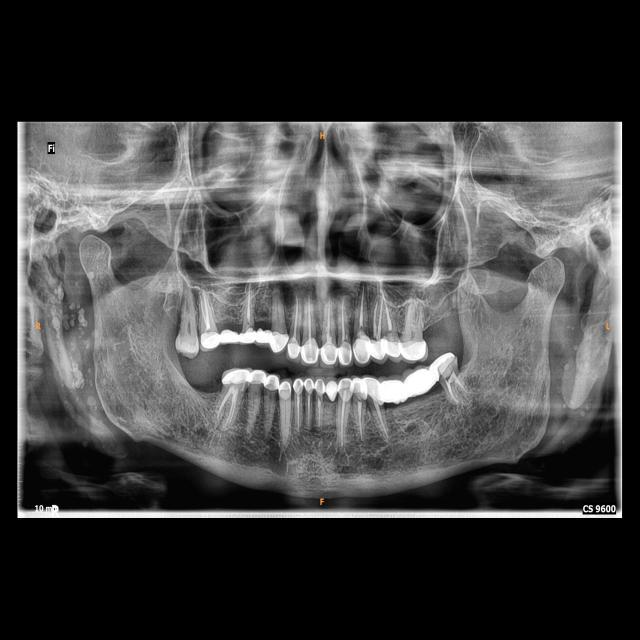kanal-tedavisi: (216, 387, 238, 423), (198, 288, 215, 332), (444, 370, 466, 403), (338, 294, 350, 346), (373, 402, 389, 441), (352, 399, 367, 438), (304, 295, 316, 340), (243, 282, 255, 326), (322, 298, 334, 342), (372, 291, 383, 338), (357, 284, 367, 334), (290, 294, 300, 340), (338, 398, 348, 443), (385, 294, 395, 337), (316, 393, 327, 430), (304, 392, 314, 429), (295, 394, 303, 433)
kaplama: (432, 351, 456, 377), (362, 373, 382, 404), (402, 338, 428, 361), (352, 335, 371, 366), (222, 367, 249, 388), (318, 341, 338, 367), (366, 334, 386, 360), (334, 341, 355, 365), (273, 326, 290, 354), (285, 332, 302, 360), (302, 338, 320, 363), (385, 335, 402, 360), (198, 330, 220, 349), (240, 325, 256, 350), (247, 366, 265, 388), (263, 372, 281, 394), (276, 379, 293, 398), (352, 377, 366, 400), (339, 379, 353, 401), (312, 376, 325, 394), (292, 377, 304, 395), (305, 378, 315, 392)
kopru: (375, 358, 451, 417), (213, 322, 250, 346), (249, 323, 279, 347), (320, 380, 346, 405)
